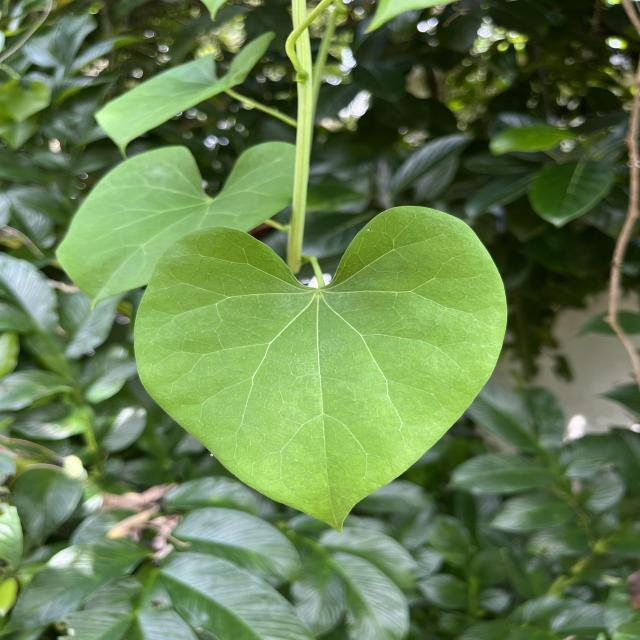Tinospora cordifolia: (130, 200, 512, 536)
